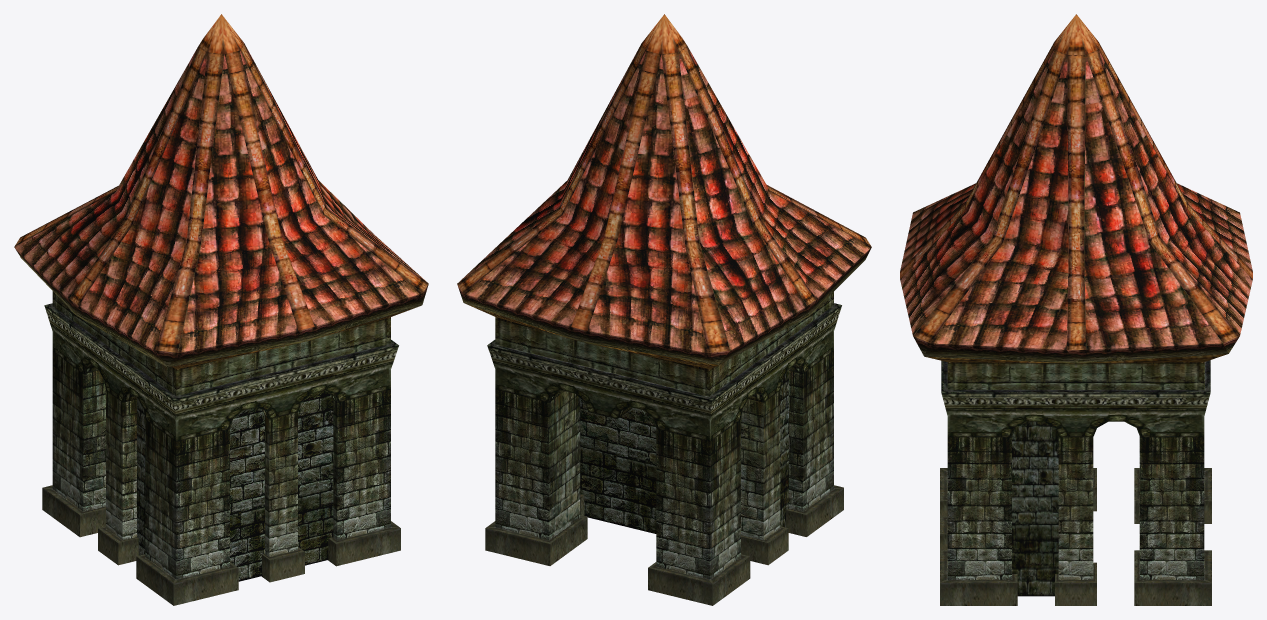
File: cem_tower.glb
3 views of the same model, side by side, from view 1: azimuth 30°, elevation 25°; view 2: azimuth 150°, elevation 25°; view 3: azimuth 270°, elevation 25° (orthographic). The views are drawn at different scales.
Visible parts, largest first — view 1: cem_tower; view 2: cem_tower; view 3: cem_tower.
Part boxes in pixels (x1,y1,x2,y2): cem_tower: (14, 14, 428, 605); cem_tower: (457, 14, 871, 605); cem_tower: (900, 14, 1252, 605).
Size of the model in its own units: 6.2 by 10.36 by 6.2.
Materials: 7 (7 with a texture image).
